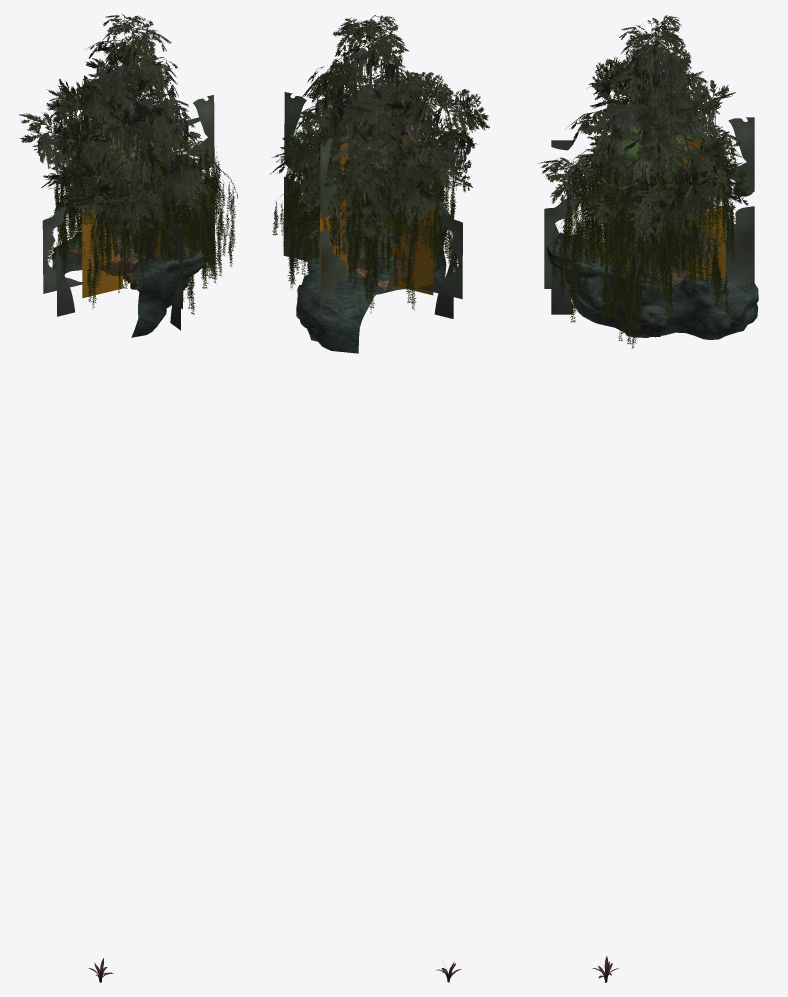
Rendered from flora-province-v1.glb.
The picture shows the model from 3 angles, left to right: view 1: azimuth 30°, elevation 25°; view 2: azimuth 150°, elevation 25°; view 3: azimuth 270°, elevation 25°; orthographic projection. The views are drawn at different scales.
Parts seen in each view (by area): view 1: cypress1, ReachTree02:3_1, cypress3, ReachTree02:3_1.001, RockCliff01:1, cedartree3_LOD_FLAT:0, cypress3_3, cypress1_2, TreeAspen01_LOD_FLAT:0.001, cypress3_4, TreeAspen01_LOD_FLAT:0, cedartree3_2 (+3 smaller); view 2: cypress1, cypress3, ReachTree02:3_1, RockCliff01:1, cedartree3_LOD_FLAT:0, cypress3_3, cedartree3_2, ReachTree02:3_1.001, cypress3_4, TreeAspen01_LOD_FLAT:0.001, cypress1_2, TreeAspen01_LOD_FLAT:0.002 (+3 smaller); view 3: cypress1, ReachTree02:3_1, RockCliff01:1, ReachTree02:3_1.001, cypress3, cedartree3_LOD_FLAT:0, cypress3_3, cypress1_2, ReachCliffTree01:0 - L1_ReachCliffTree01:0_1.001, cedartree3_2, TreeAspen01_LOD_FLAT:0.001, RockCliff01:3 (+4 smaller).
Part boxes in pixels (x1,y1,x2,y2): cypress1: (54, 14, 223, 237); ReachTree02:3_1: (47, 116, 222, 314); cypress3: (19, 58, 201, 220); ReachTree02:3_1.001: (77, 147, 237, 301); RockCliff01:1: (51, 234, 204, 337); cedartree3_LOD_FLAT:0: (42, 75, 215, 309); cypress3_3: (32, 73, 188, 215); cypress1_2: (95, 41, 197, 190); TreeAspen01_LOD_FLAT:0.001: (82, 206, 134, 298); cypress3_4: (37, 76, 168, 216); TreeAspen01_LOD_FLAT:0: (56, 117, 203, 330); cedartree3_2: (49, 129, 209, 231); cypress1: (291, 15, 458, 256); cypress3: (270, 73, 489, 237); ReachTree02:3_1: (286, 121, 458, 313); RockCliff01:1: (296, 213, 447, 353); cedartree3_LOD_FLAT:0: (283, 92, 462, 312); cypress3_3: (280, 79, 488, 213); cedartree3_2: (271, 134, 439, 221); ReachTree02:3_1.001: (272, 136, 456, 265); cypress3_4: (293, 104, 471, 219); TreeAspen01_LOD_FLAT:0.001: (320, 200, 433, 295); cypress1_2: (315, 47, 423, 206); TreeAspen01_LOD_FLAT:0.002: (340, 136, 409, 277); cypress1: (538, 15, 739, 267); ReachTree02:3_1: (562, 148, 736, 348); RockCliff01:1: (548, 232, 758, 339); ReachTree02:3_1.001: (552, 153, 720, 344); cypress3: (576, 50, 746, 222); cedartree3_LOD_FLAT:0: (544, 117, 754, 288); cypress3_3: (588, 56, 749, 205); cypress1_2: (592, 51, 715, 244); ReachCliffTree01:0 - L1_ReachCliffTree01:0_1.001: (623, 142, 702, 297); cedartree3_2: (582, 128, 728, 239); TreeAspen01_LOD_FLAT:0.001: (685, 207, 725, 279); RockCliff01:3: (546, 246, 752, 337).
Size of what is drawn, in the model's own units: 25.96 by 117 by 25.63.
117 materials, 116 textured.
